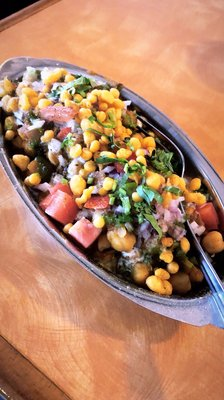curry: (146, 149, 181, 179)
sushi: (1, 55, 224, 328)
